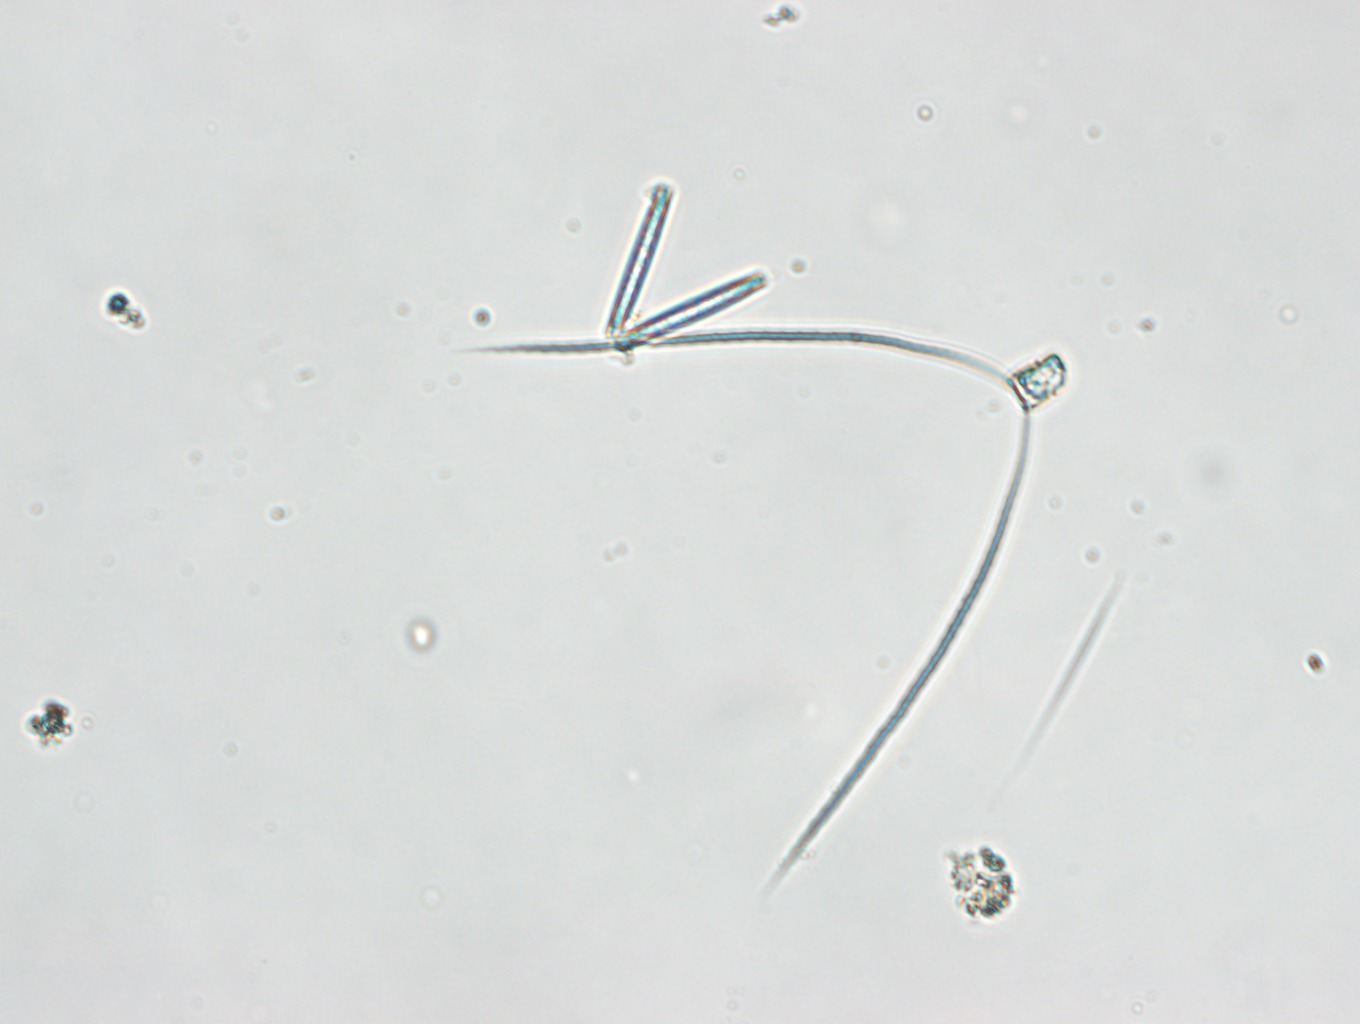chaetoceros: (472, 322, 1073, 902)
thalassionema frauenfeldii: (601, 193, 779, 353)
